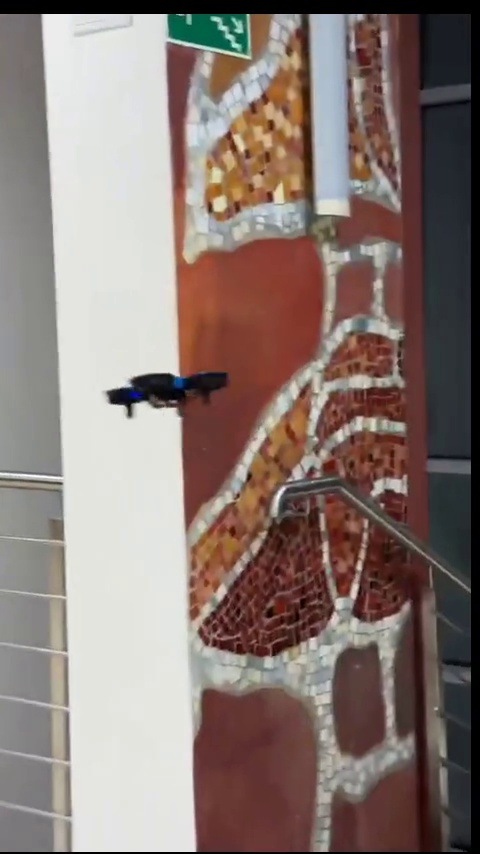drone: (105, 370, 233, 418)
